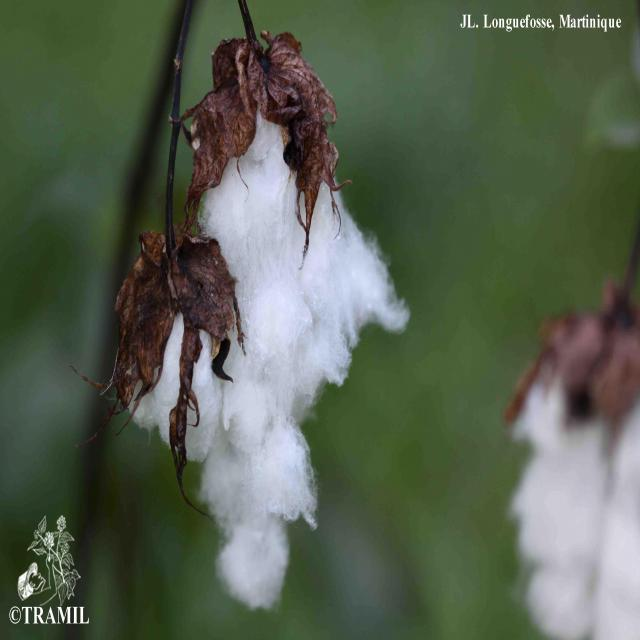Late_blight: (96, 36, 419, 605)
